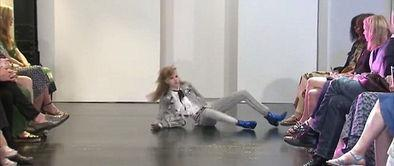Fall-Detected: (140, 58, 293, 136)
